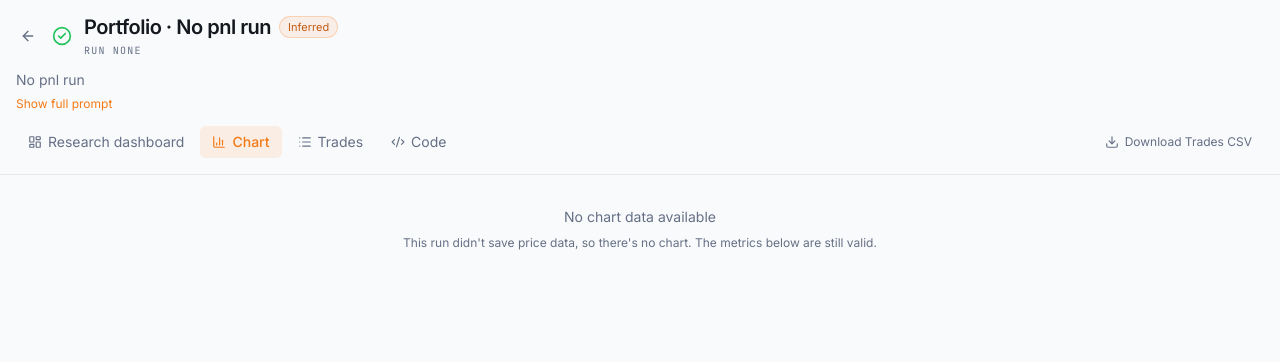
Test: RunDetail page › a filter that leaves only unreadable P&L shows no total at all, not +0
Expected: the text "No pnl run" is shown, [16,71,85,88]
Step 1. Click the tab "Trades" → (330, 142), box [286,126,375,158]
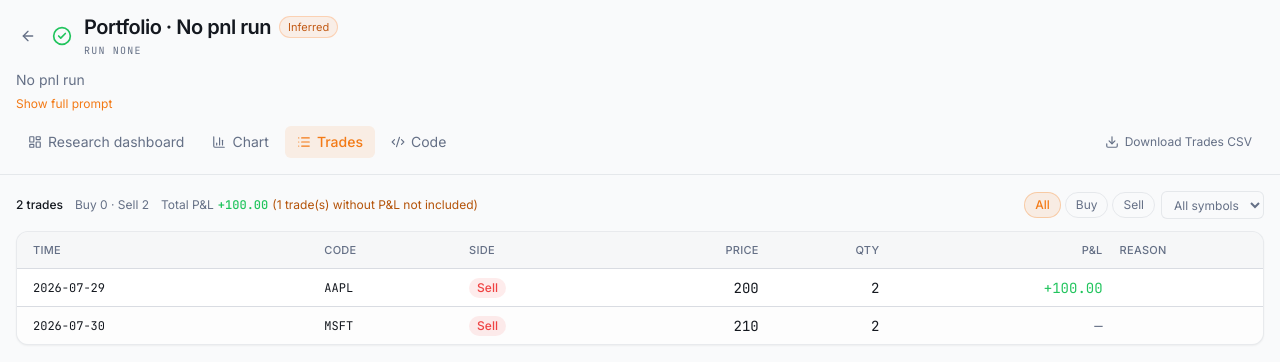
Step 2. Select "MSFT" in the dropdown → (1212, 205), box [1161,191,1264,219]
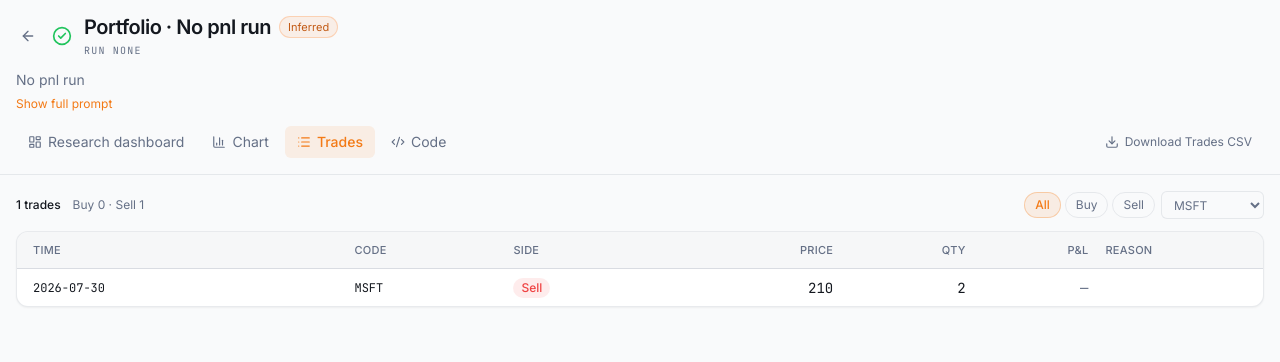
Now the text "Total P&L" is gone
